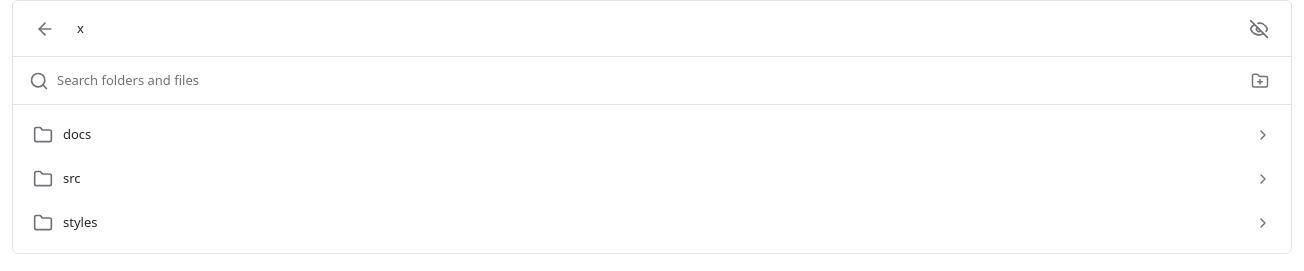
Test: WorkspacePicker listing filter › filters from the dedicated search field and clears it with Escape
Type "do" into the search field with test id "workspace-picker-search-input" at (647, 81), box [57,71,1237,90]
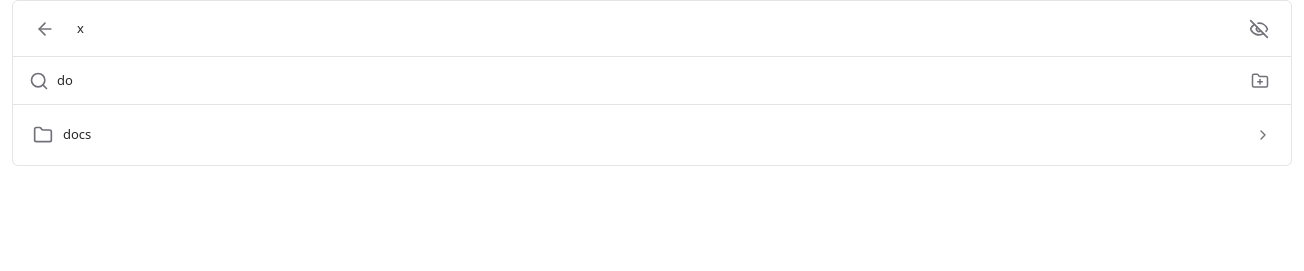
Expected: the button with test id "workspace-picker-entry-docs" is shown, [13,113,1291,157]
Result: the button with test id "workspace-picker-entry-src" is gone
Press Escape in the search field with test id "workspace-picker-search-input", box [57,71,1237,90]
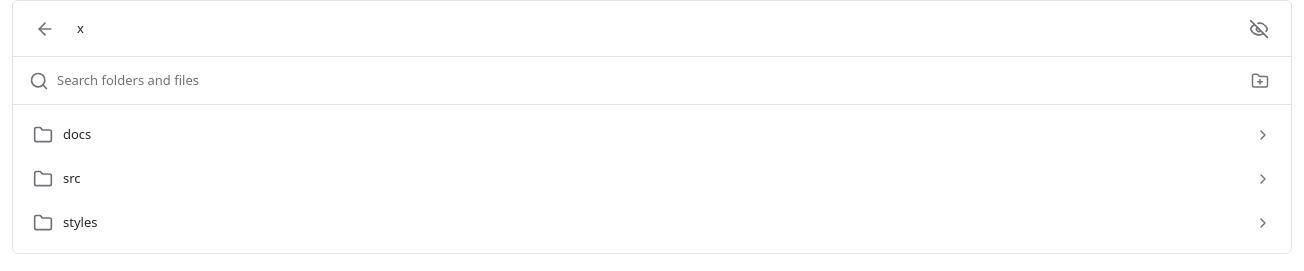
Result: the search field with test id "workspace-picker-search-input" is empty at [57,71,1237,90]
Result: the button with test id "workspace-picker-entry-src" is shown at [13,157,1291,201]
